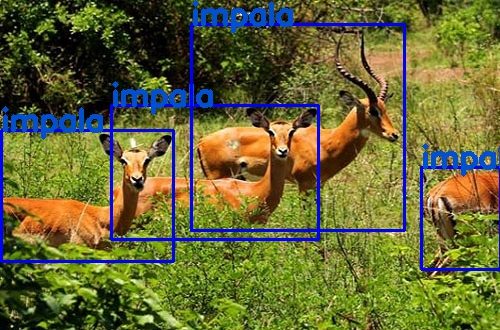impala: (191, 23, 404, 229), (111, 104, 318, 239), (1, 129, 173, 260), (421, 166, 500, 268)
